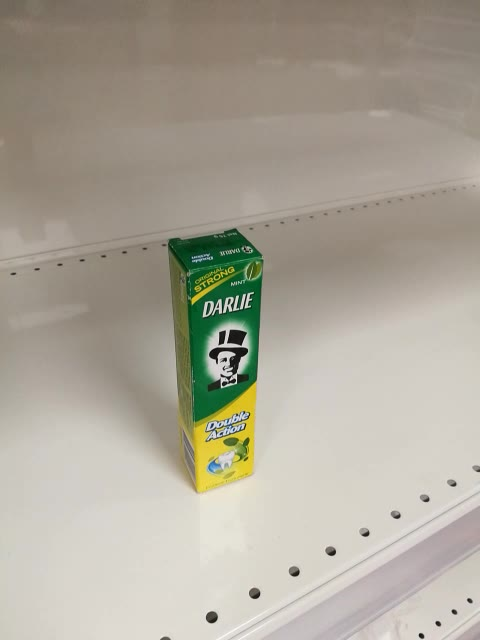toothpaste: (166, 228, 263, 494)
